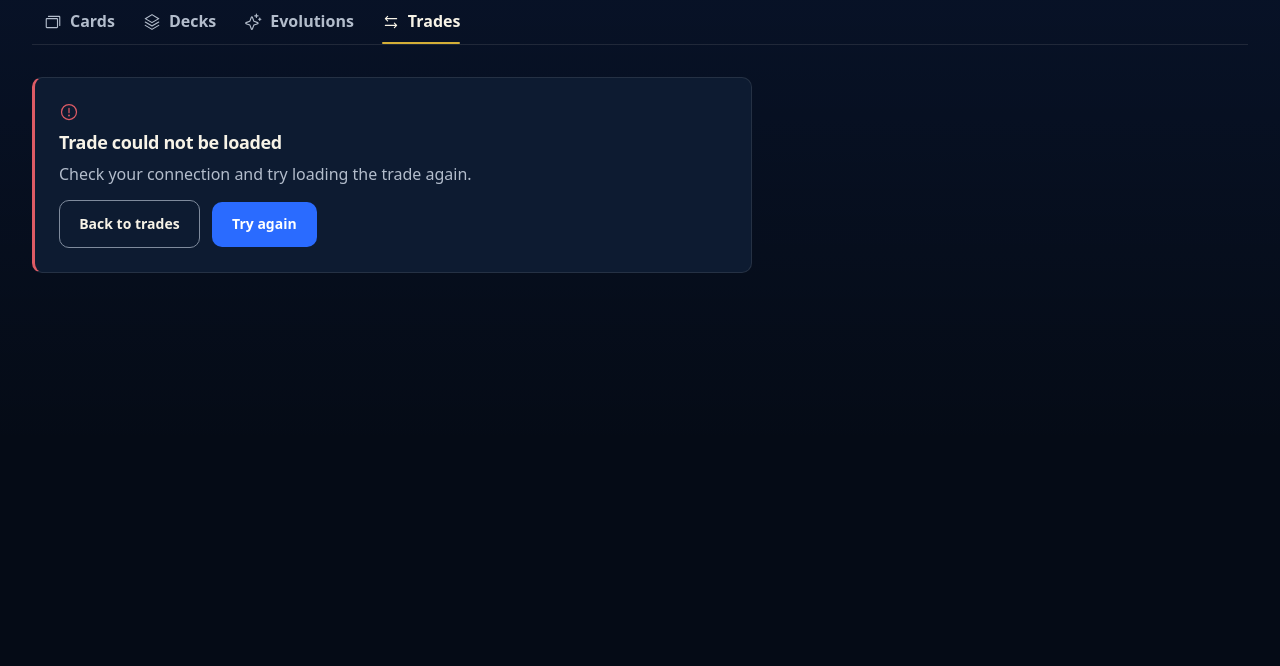
it: trade detail action boundaries › retries a failed detail read and refreshes a completed trade when its receipt is absent
Click the button "Try again".
click(264, 224)  # box [212,202,317,246]
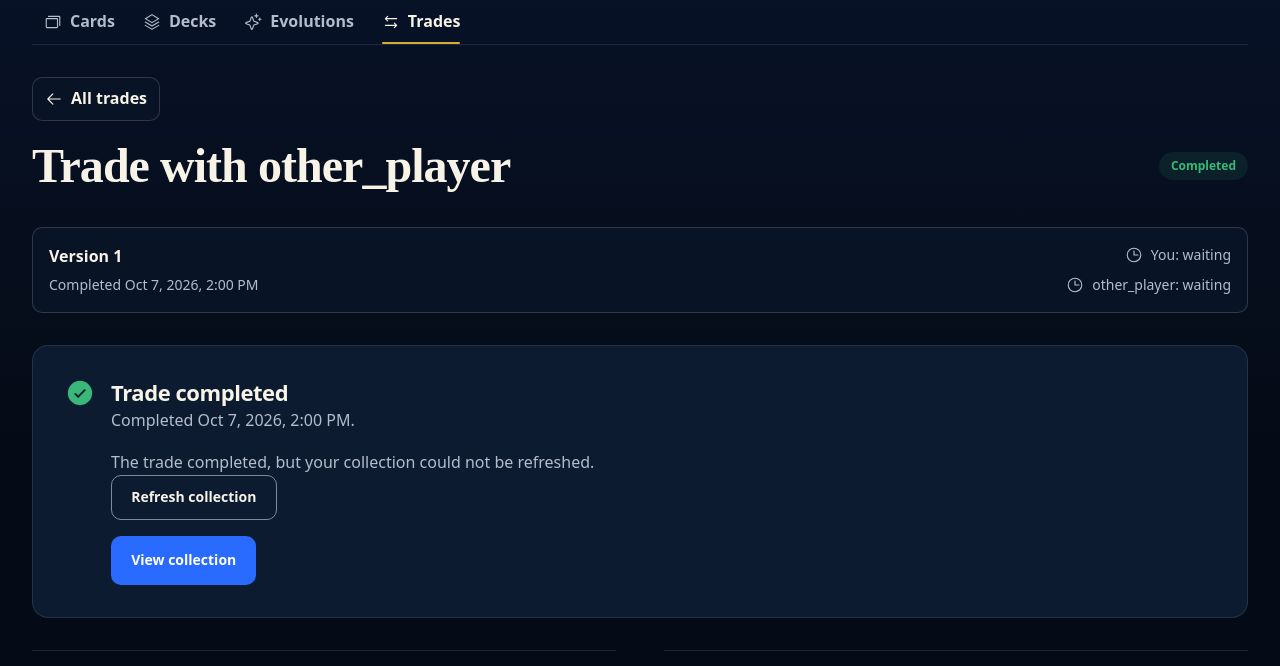
Check: the text "could not be refreshed" is shown, box [111,451,594,473]
Click the button "Refresh collection".
click(194, 498)  # box [111,475,276,520]
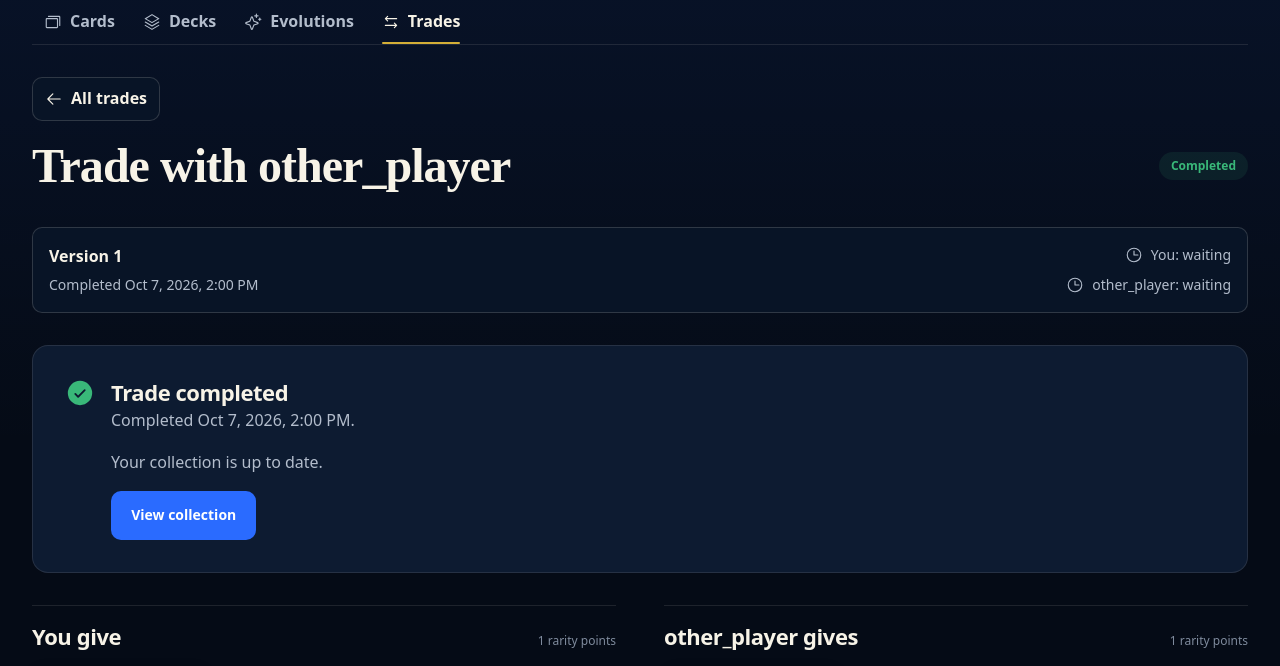
Check: the text "Completed" is shown, box [1159,152,1248,180]
Check: the text "Your collection is up to date." is shown, box [111,451,323,473]
